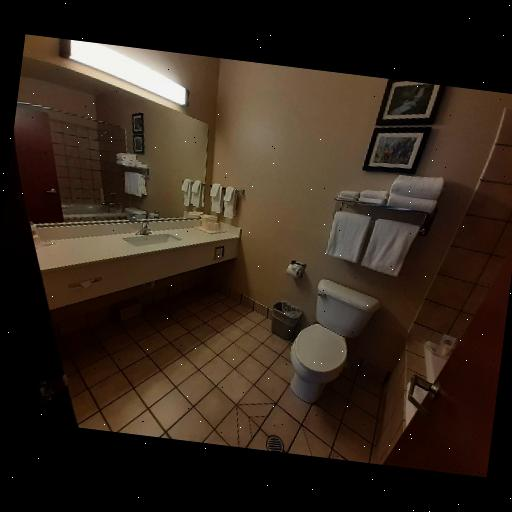clean mirror: (12, 65, 222, 229)
clean_floor: (60, 288, 385, 464)
clean_sink: (25, 203, 241, 309)
clean_toilet: (278, 274, 388, 416)
folded_towel: (358, 217, 423, 278), (328, 208, 368, 262), (206, 183, 246, 216), (338, 185, 391, 209)
